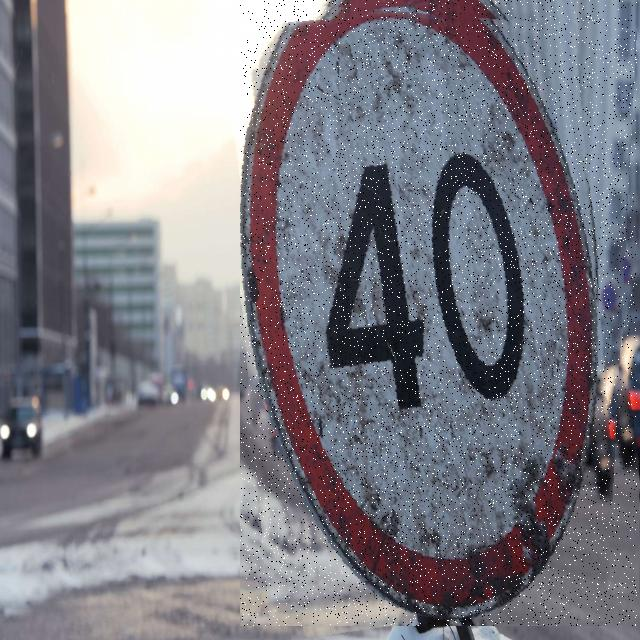speed limit 40: (240, 0, 637, 626)
